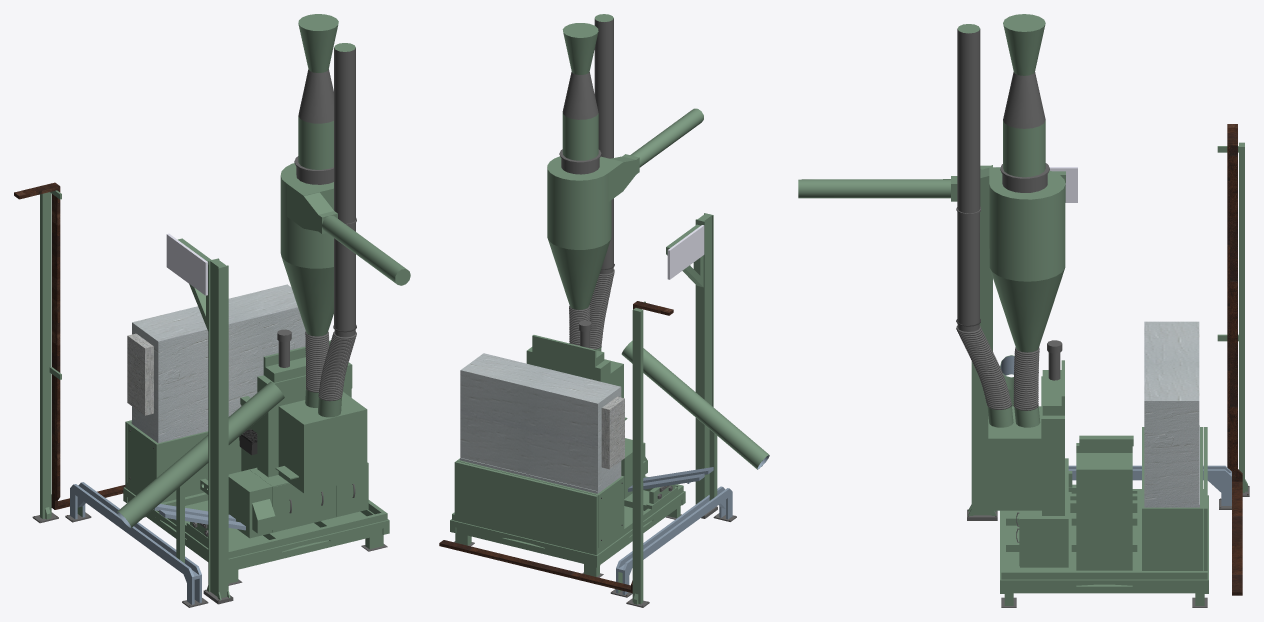
File: SwarfBriquettinPress.obj
3 views of the same model, side by side, from view 1: azimuth 30°, elevation 25°; view 2: azimuth 150°, elevation 25°; view 3: azimuth 270°, elevation 25° (orthographic). The views are drawn at different scales.
Parts seen in each view (by area): view 1: SwarfBriquettin_Press; view 2: SwarfBriquettin_Press; view 3: SwarfBriquettin_Press.
Part boxes in pixels (x1,y1,x2,y2): SwarfBriquettin_Press: (14, 14, 410, 607); SwarfBriquettin_Press: (439, 14, 769, 607); SwarfBriquettin_Press: (798, 14, 1249, 607).
Size of the model in its own units: 209 by 401 by 296.
